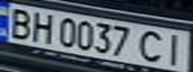0: (54, 16, 78, 48), (75, 18, 93, 52)
3: (90, 20, 115, 55)
7: (112, 24, 136, 57)
B: (3, 6, 36, 39)
C: (136, 28, 169, 64)
H: (27, 10, 57, 44)
I: (160, 30, 190, 66)
